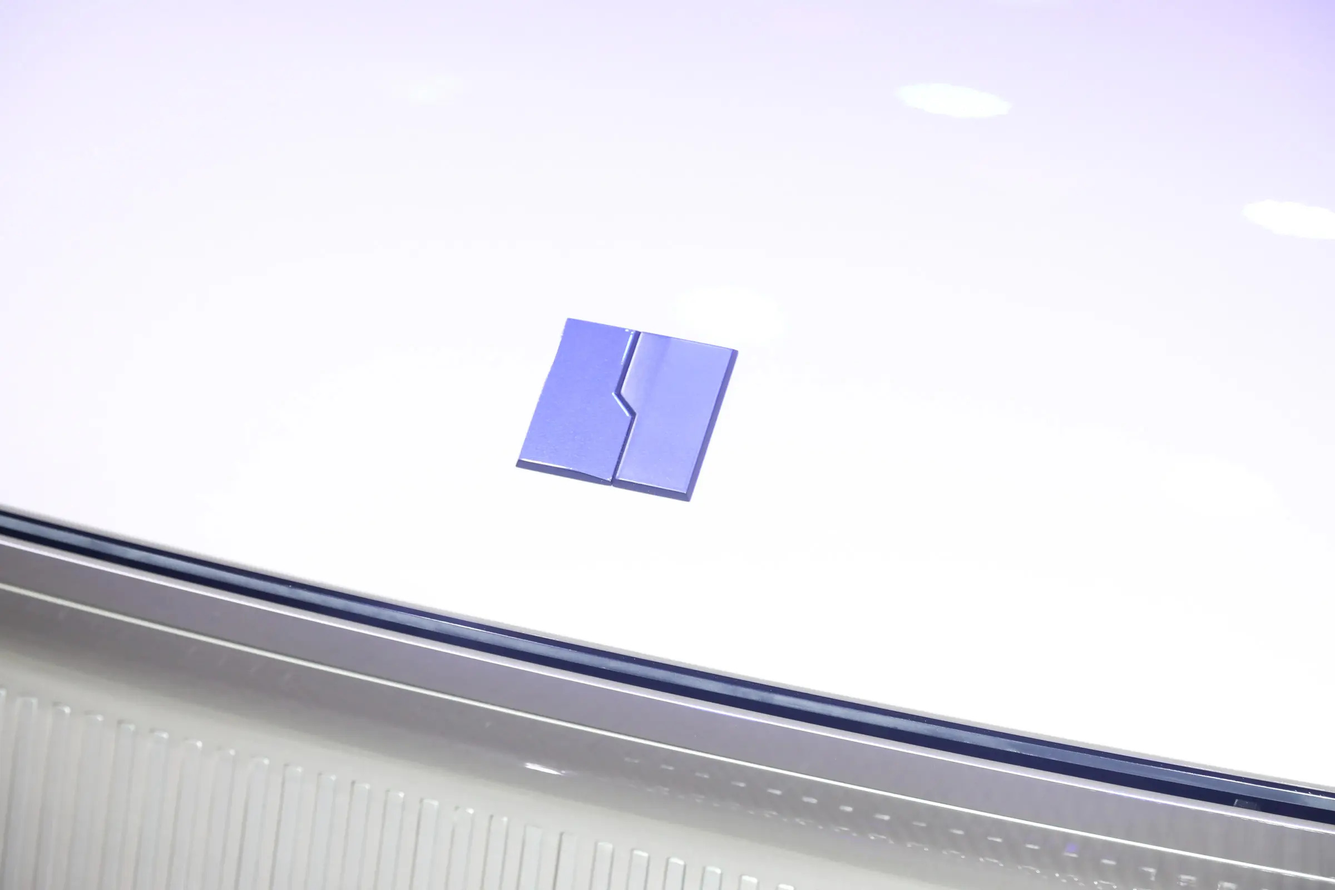LINK&CO: (516, 318, 738, 500)
